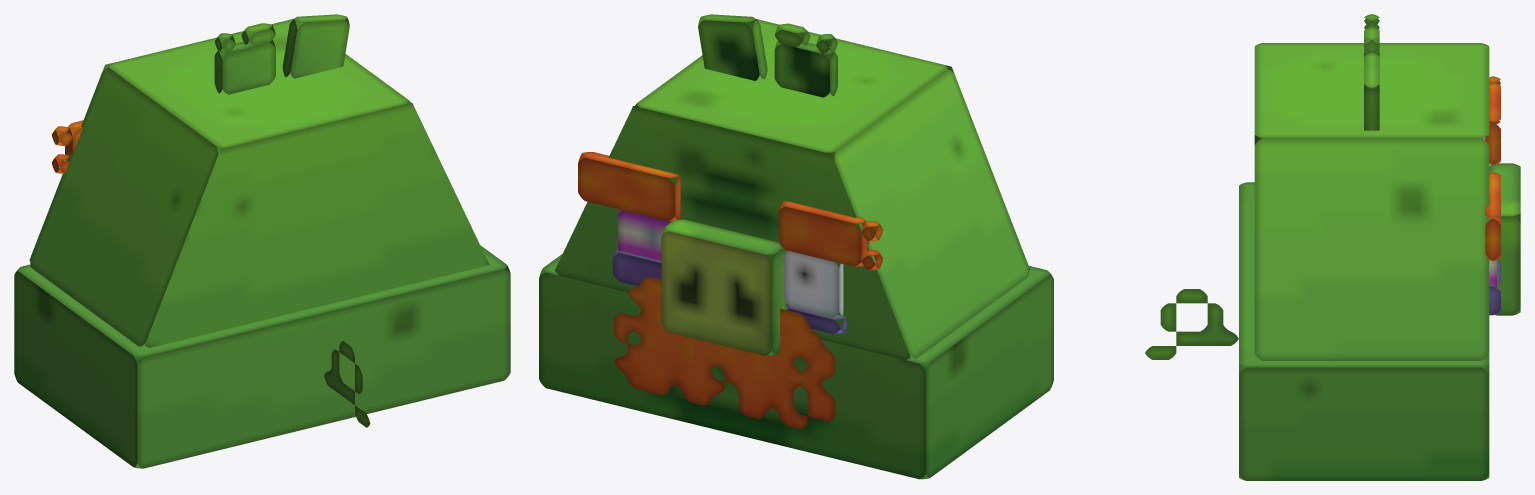
The model's file is foreman_pig_boss_f1.obj.
The picture shows the model from 3 angles, left to right: view 1: azimuth 30°, elevation 25°; view 2: azimuth 150°, elevation 25°; view 3: azimuth 270°, elevation 25°; orthographic projection. The views are drawn at different scales.
Visible parts, largest first — view 1: mesh, cube; view 2: mesh, cube; view 3: mesh, cube.
Part boxes in pixels (box(x1,y1,x2,y2)): mesh: box(14, 18, 510, 468); cube: box(52, 14, 370, 427); mesh: box(539, 19, 1053, 479); cube: box(578, 14, 882, 429); mesh: box(1239, 43, 1489, 480); cube: box(1145, 14, 1520, 359).
Size of the model in its own units: 1.75 by 1.56 by 1.75.
